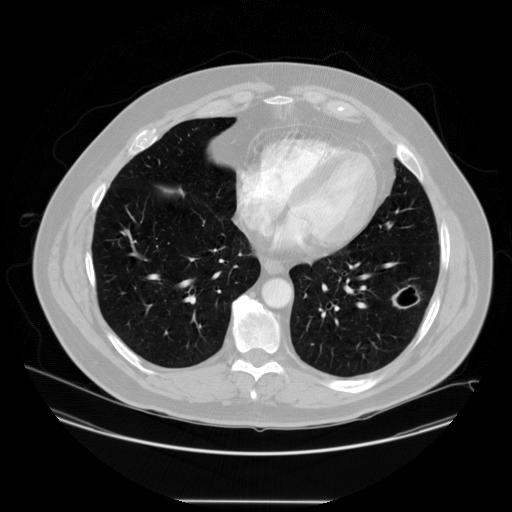nodule: (392, 283, 422, 313)
